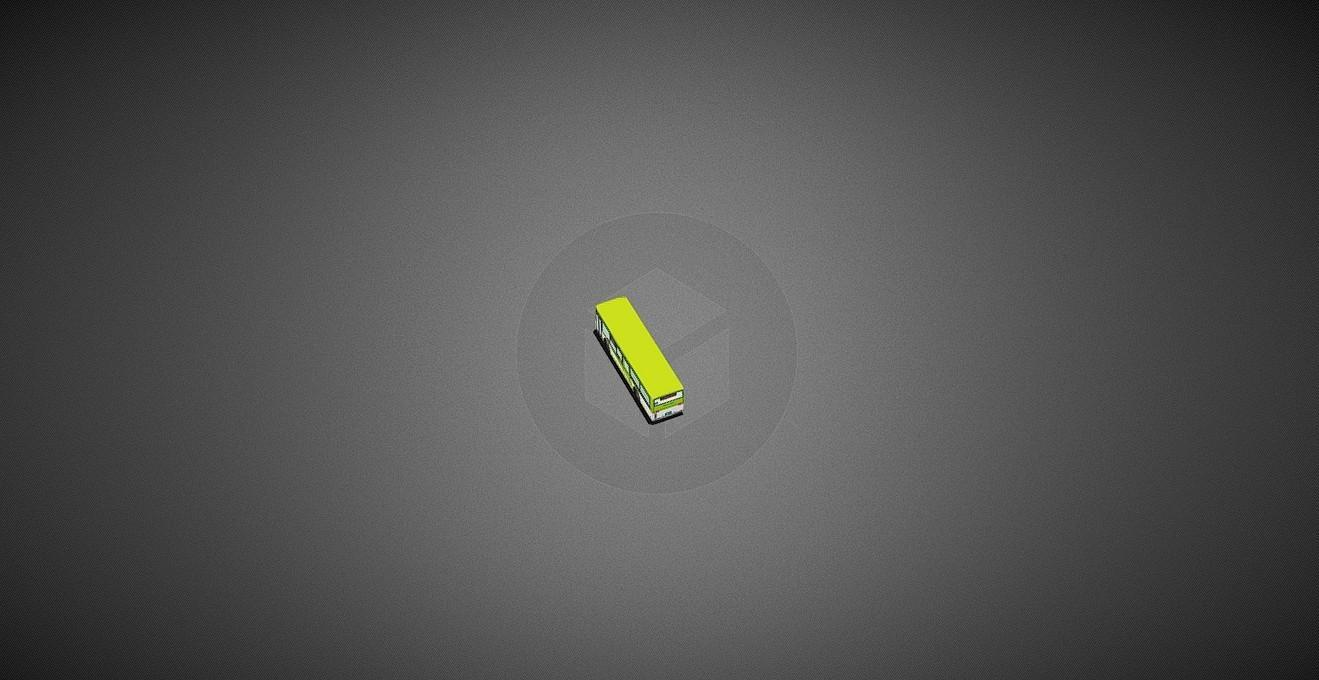Bus: (591, 294, 685, 424)
